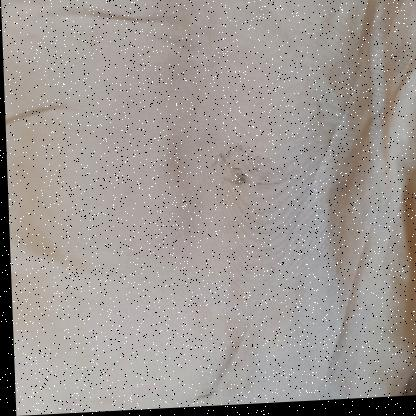spot: (241, 153, 282, 189), (208, 144, 243, 167), (215, 169, 245, 193)
